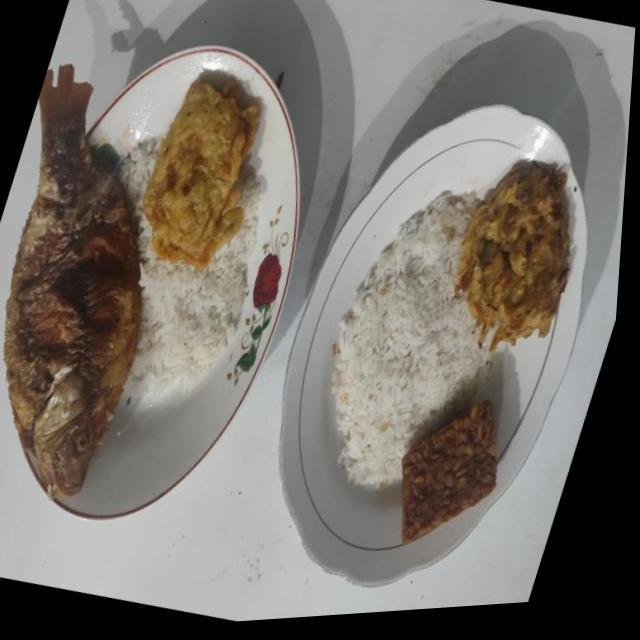ikan_mujair: (3, 66, 142, 500)
nasi_putih: (330, 190, 492, 488), (122, 137, 260, 395)
tempe_goreng: (401, 401, 496, 544)
